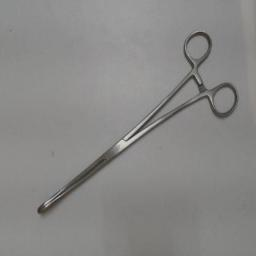Sponge Forceps: (32, 22, 242, 222)
